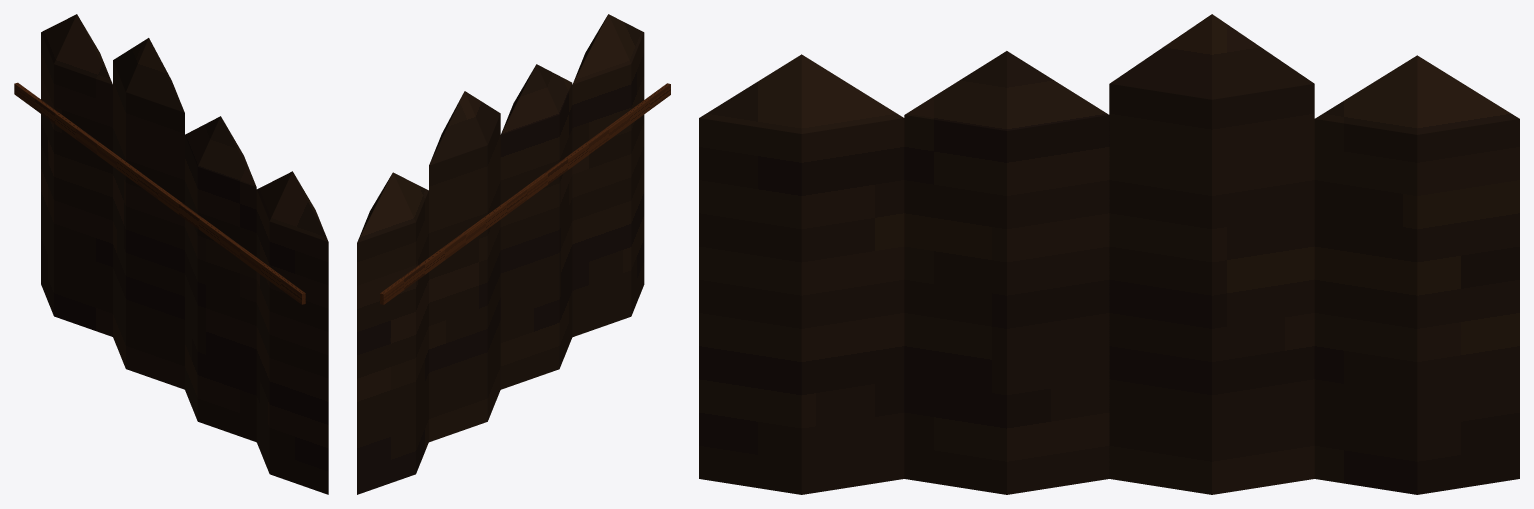
File: empalizada.glb
3 views of the same model, side by side, from view 1: azimuth 30°, elevation 25°; view 2: azimuth 150°, elevation 25°; view 3: azimuth 270°, elevation 25° (orthographic). The views are drawn at different scales.
Visible parts, largest first — view 1: troncos, travesano; view 2: troncos, travesano; view 3: troncos.
Part boxes in pixels (x1,y1,x2,y2): troncos: (41, 14, 328, 494); travesano: (14, 82, 305, 304); troncos: (357, 14, 644, 494); travesano: (380, 83, 670, 304); troncos: (699, 14, 1519, 494).
Bounding box in the file's own units: 0.4 × 2.5 × 4.
Materials: 1 (1 with a texture image).
